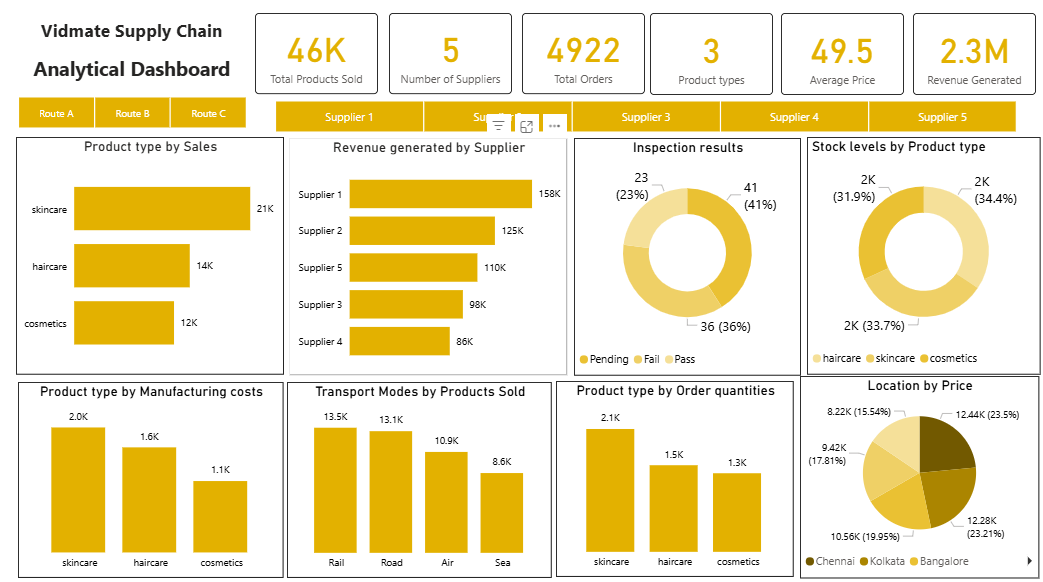

The page's visual inventory and layout, read from the dashboard file:
{"tool":"powerbi","page":{"name":"Page 1","canvas":[1280,720],"ordinal":0},"visuals":[{"type":"card","fields":{"Values":["Count(clean_supply_chain_data.Supplier name)"]},"box":[477.6,23.4,150,99.1],"z":0},{"type":"card","fields":{"Values":["Sum(clean_supply_chain_data.Order quantities)"]},"box":[640,23.4,150,99.1],"z":1000},{"type":"card","fields":{"Values":["Count(clean_supply_chain_data.Product type)"]},"box":[795.5,23.4,150,100.5],"z":2000},{"type":"card","fields":{"Values":["Avg(clean_supply_chain_data.Price)"]},"box":[955.2,23.4,150,100.5],"z":3000},{"type":"card","fields":{"Values":["Sum(clean_supply_chain_data.Total_revenue)"]},"box":[1116.2,23.4,150,100.5],"z":4000},{"type":"card","fields":{"Values":["Sum(clean_supply_chain_data.Number of products sold)"]},"box":[313.8,23.4,150,99.1],"z":5000},{"type":"textbox","box":[0,24.3,326.6,95.3],"z":6000},{"type":"slicer","fields":{"Values":["clean_supply_chain_data.Supplier name"]},"box":[313.8,123.9,952.4,50],"z":7000},{"type":"slicer","fields":{"Values":["clean_supply_chain_data.Routes"]},"box":[0,119.7,326.2,49.5],"z":8000},{"type":"clusteredBarChart","title":"Product type by Sales","fields":{"Category":["clean_supply_chain_data.Product type"],"Y":["Sum(clean_supply_chain_data.Number of products sold)"]},"box":[22.3,174.5,326.6,290.1],"z":9000},{"type":"pieChart","title":"Location by Price","fields":{"Category":["clean_supply_chain_data.Location"],"Y":["Sum(clean_supply_chain_data.Costs)"]},"box":[978.3,466.7,291.7,246.7],"z":10000},{"type":"clusteredBarChart","title":"Revenue generated by Supplier ","fields":{"Category":["clean_supply_chain_data.Supplier name"],"Y":["Sum(clean_supply_chain_data.Revenue generated)"]},"box":[355.1,176.2,340,290.4],"z":11000},{"type":"donutChart","title":"Stock levels by Product type","fields":{"Category":["clean_supply_chain_data.Product type"],"Y":["Sum(clean_supply_chain_data.Stock levels)"]},"box":[986.8,174.8,284.9,290.4],"z":12000},{"type":"donutChart","title":"Inspection results","fields":{"Category":["clean_supply_chain_data.Inspection results"],"Y":["CountNonNull(clean_supply_chain_data.Inspection results)"]},"box":[703.3,176.2,276.6,290.4],"z":13000},{"type":"columnChart","title":"Product type by Manufacturing costs ","fields":{"Y":["Sum(clean_supply_chain_data.Manufacturing costs)"],"Category":["clean_supply_chain_data.Product type"]},"box":[24.8,473.5,324,239],"z":14000},{"type":"columnChart","title":"Transport Modes by Products Sold","fields":{"Category":["clean_supply_chain_data.Transportation modes"],"Y":["Sum(clean_supply_chain_data.Number of products sold)"]},"box":[352.3,473.5,323.4,239.5],"z":15000},{"type":"columnChart","title":" Product type by Order quantities ","fields":{"Y":["Sum(clean_supply_chain_data.Order quantities)"],"Category":["clean_supply_chain_data.Product type"]},"box":[681.3,472.1,290.4,239.5],"z":16000}]}

Visuals, with their boxes in screenshot pixels (x1, y1, x2, y2), scaled from the page's 1280x720 canvas onto the 1043x582 screenshot:
card - Count(clean_supply_chain_data.Supplier name): pyautogui.locateOnScreen(389, 19, 511, 99)
card - Sum(clean_supply_chain_data.Order quantities): pyautogui.locateOnScreen(522, 19, 644, 99)
card - Count(clean_supply_chain_data.Product type): pyautogui.locateOnScreen(648, 19, 770, 100)
card - Avg(clean_supply_chain_data.Price): pyautogui.locateOnScreen(778, 19, 901, 100)
card - Sum(clean_supply_chain_data.Total_revenue): pyautogui.locateOnScreen(910, 19, 1032, 100)
card - Sum(clean_supply_chain_data.Number of products sold): pyautogui.locateOnScreen(256, 19, 378, 99)
textbox: pyautogui.locateOnScreen(0, 20, 266, 97)
slicer - clean_supply_chain_data.Supplier name: pyautogui.locateOnScreen(256, 100, 1032, 141)
slicer - clean_supply_chain_data.Routes: pyautogui.locateOnScreen(0, 97, 266, 137)
"Product type by Sales" clusteredBarChart: pyautogui.locateOnScreen(18, 141, 284, 376)
"Location by Price" pieChart: pyautogui.locateOnScreen(797, 377, 1035, 577)
"Revenue generated by Supplier " clusteredBarChart: pyautogui.locateOnScreen(289, 142, 566, 377)
"Stock levels by Product type" donutChart: pyautogui.locateOnScreen(804, 141, 1036, 376)
"Inspection results" donutChart: pyautogui.locateOnScreen(573, 142, 798, 377)
"Product type by Manufacturing costs " columnChart: pyautogui.locateOnScreen(20, 383, 284, 576)
"Transport Modes by Products Sold" columnChart: pyautogui.locateOnScreen(287, 383, 551, 576)
" Product type by Order quantities " columnChart: pyautogui.locateOnScreen(555, 382, 792, 575)
